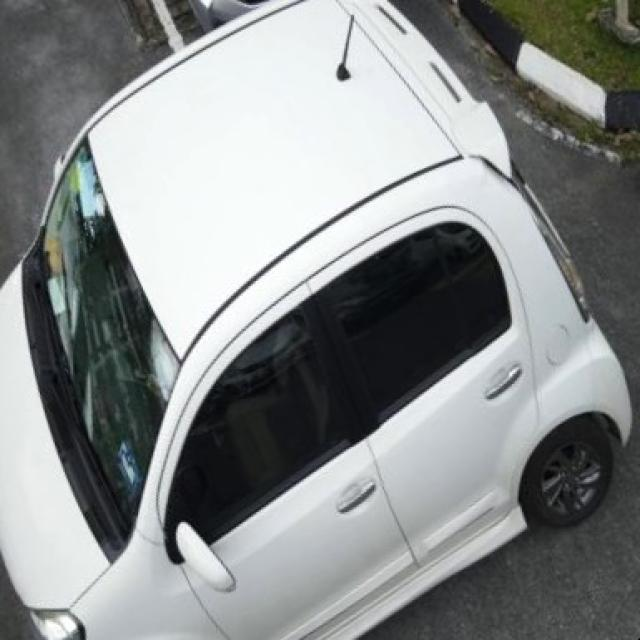Legalparking: (0, 2, 632, 638)
